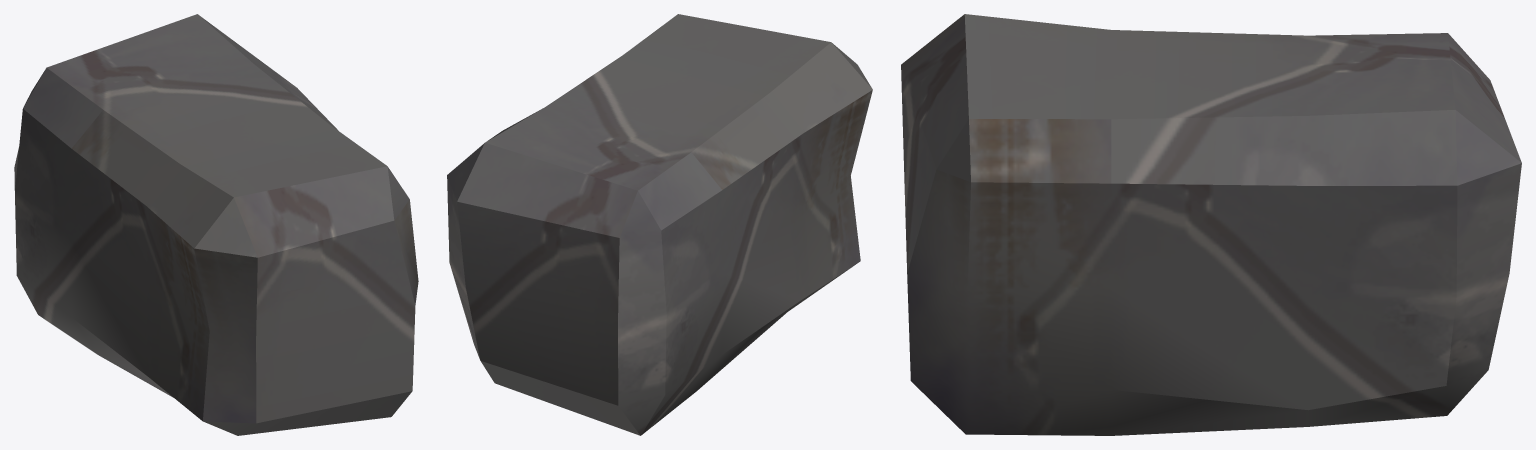
The picture shows the model from 3 angles, left to right: view 1: azimuth 30°, elevation 25°; view 2: azimuth 150°, elevation 25°; view 3: azimuth 270°, elevation 25°; orthographic projection. The views are drawn at different scales.
Visible parts, largest first — view 1: SM_Brick.002; view 2: SM_Brick.002; view 3: SM_Brick.002.
Boxes of the visible parts, x1,y1,x2,y2 form: SM_Brick.002: (14,14,418,435); SM_Brick.002: (447,14,872,435); SM_Brick.002: (901,14,1521,435).
Size of the model in its own units: 0.5871 by 0.6087 by 1.04.
